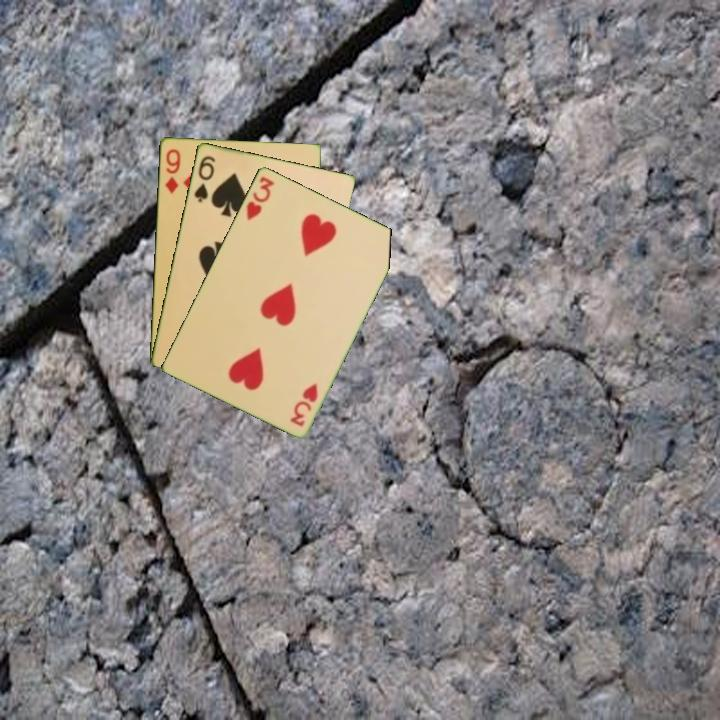3h: (242, 172, 277, 223), (286, 379, 321, 429)
6s: (190, 152, 218, 205)
9d: (161, 145, 183, 196)
